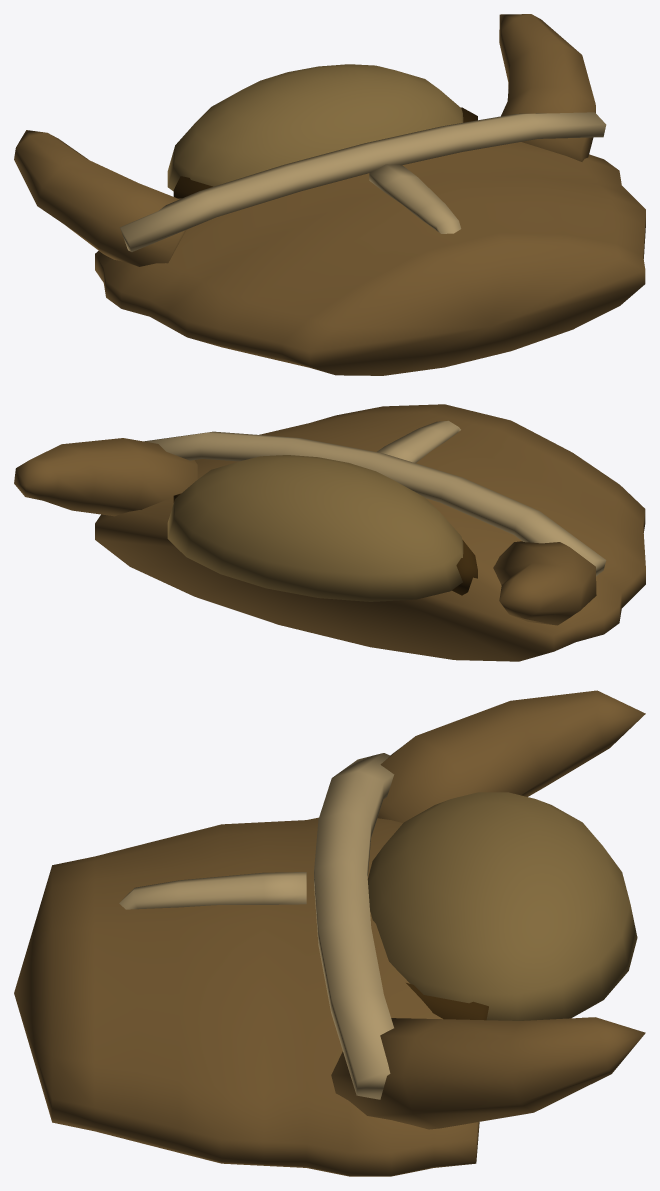
File: newshh-93.glb
3 renders of one model, top to bottom at view 1: azimuth 30°, elevation 25°; view 2: azimuth 150°, elevation 25°; view 3: azimuth 270°, elevation 25°, orthographic. The views are drawn at different scales.
Parts seen in each view (by area): view 1: newshh-93; view 2: newshh-93; view 3: newshh-93.
Part boxes in pixels (x1,y1,x2,y2): newshh-93: [14, 14, 645, 375]; newshh-93: [14, 404, 645, 661]; newshh-93: [14, 690, 645, 1176].
Bounding box in the file's own units: 1.7 × 0.5169 × 1.24.
